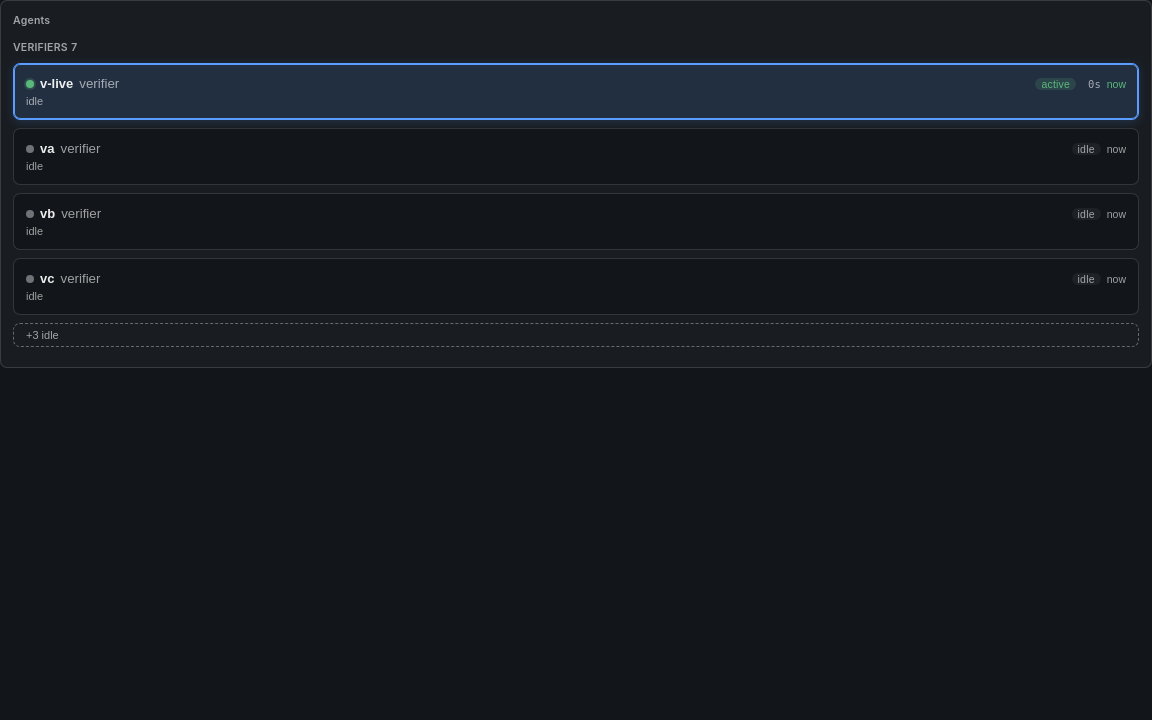
Test case: AgentRoster › truncates the idle tail to 3 with a '+N idle' toggle that expands the rest
Check: the text "v-live" is shown, box [40,76,73,91]
Check: the text "va" is shown, box [40,141,54,156]
Click the button "+3 idle" at (42, 335), box [13,323,1139,347]
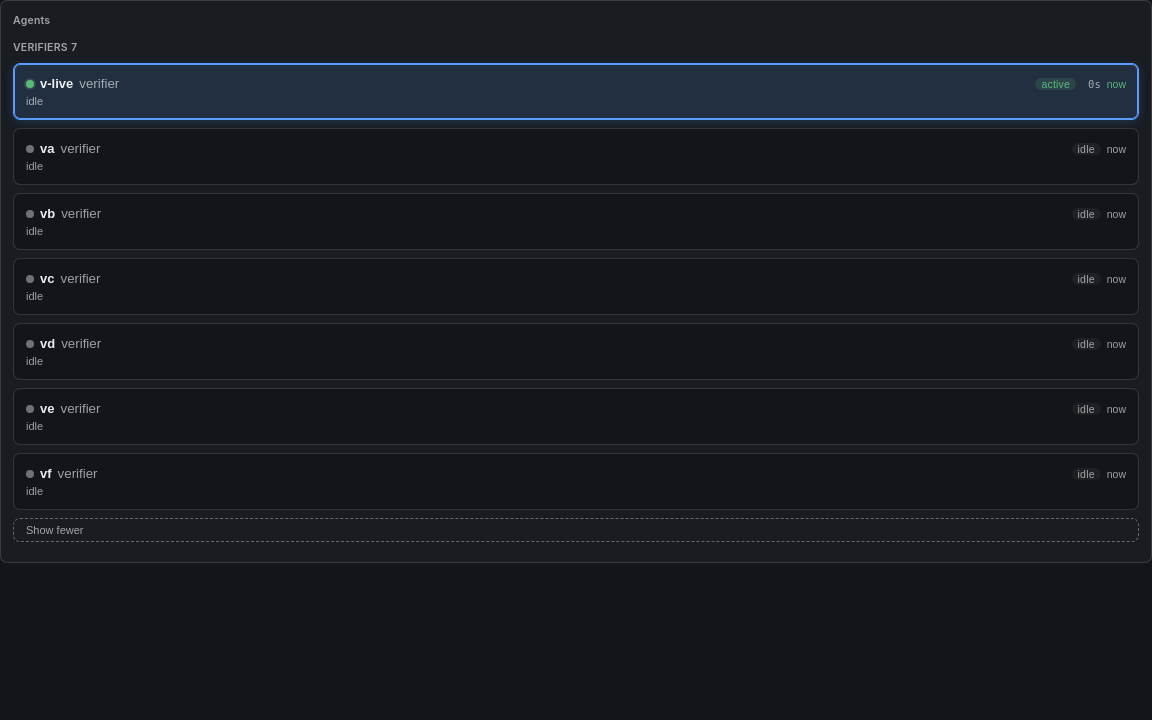
Check: the text "vf" is shown, box [40,466,52,481]
Check: the button "Show fewer" is shown, box [13,518,1139,542]
